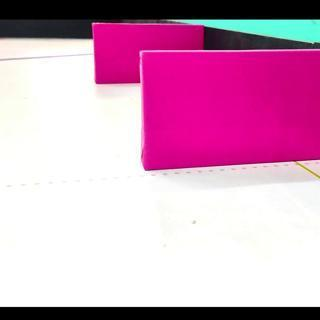xparking: (146, 52, 318, 177), (96, 24, 139, 86)
